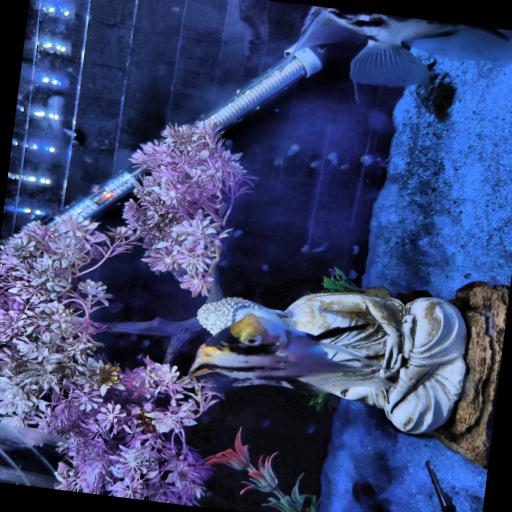Fish: (293, 6, 511, 87), (189, 315, 393, 393)
